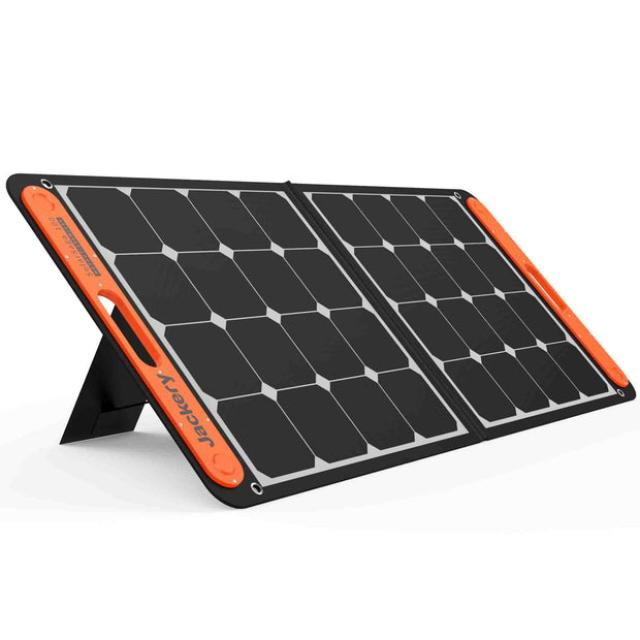clean-solar-panel: (8, 175, 635, 508)
